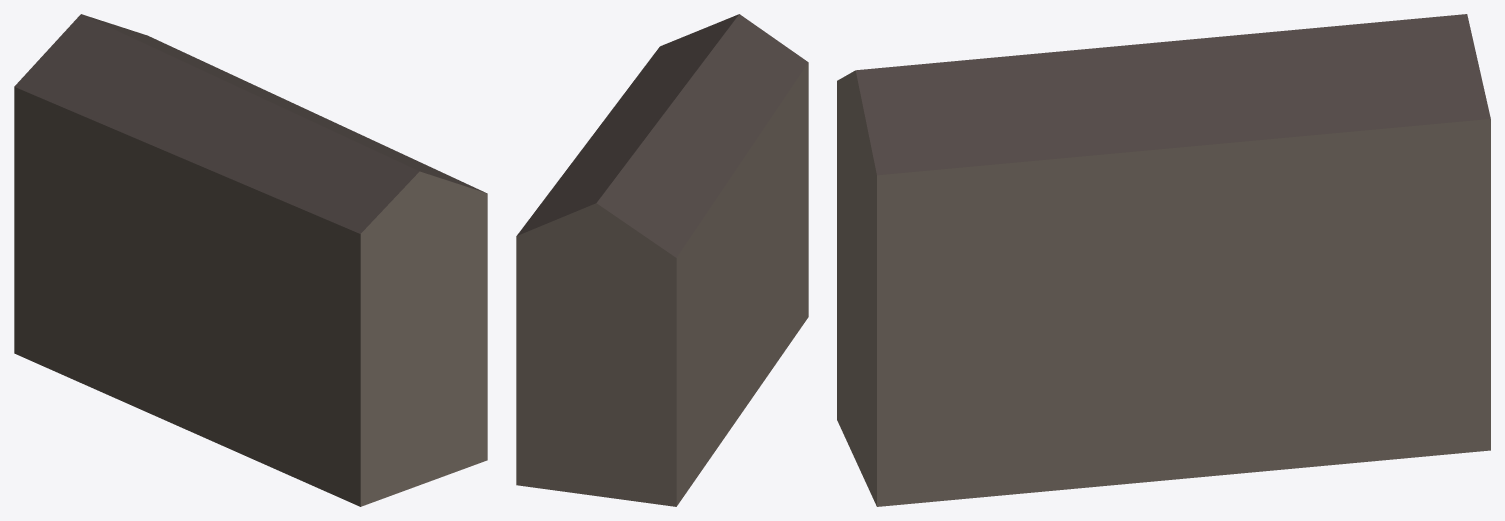
3 renders of one model, left to right at view 1: azimuth 30°, elevation 25°; view 2: azimuth 150°, elevation 25°; view 3: azimuth 270°, elevation 25°, orthographic. The views are drawn at different scales.
Parts seen in each view (by area): view 1: HP-w776801013; view 2: HP-w776801013; view 3: HP-w776801013.
Part boxes in pixels (x1,y1,x2,y2): HP-w776801013: (14,14,487,506); HP-w776801013: (516,14,808,506); HP-w776801013: (837,14,1490,506).
Bounding box in the file's own units: 5.78 × 7.06 × 10.72.
